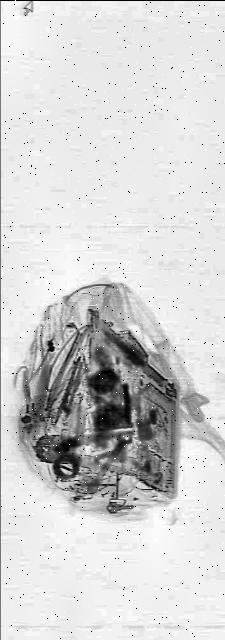Pliers: (36, 426, 134, 472)
Wrench: (87, 418, 132, 500)
